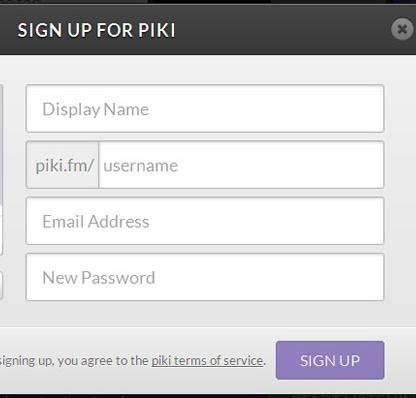button: (275, 340, 385, 380)
field: (25, 83, 385, 134), (25, 196, 385, 246), (25, 253, 385, 302), (97, 140, 386, 190)
